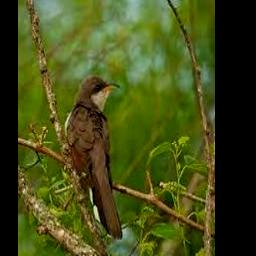Cuckoo: (64, 76, 123, 239)
